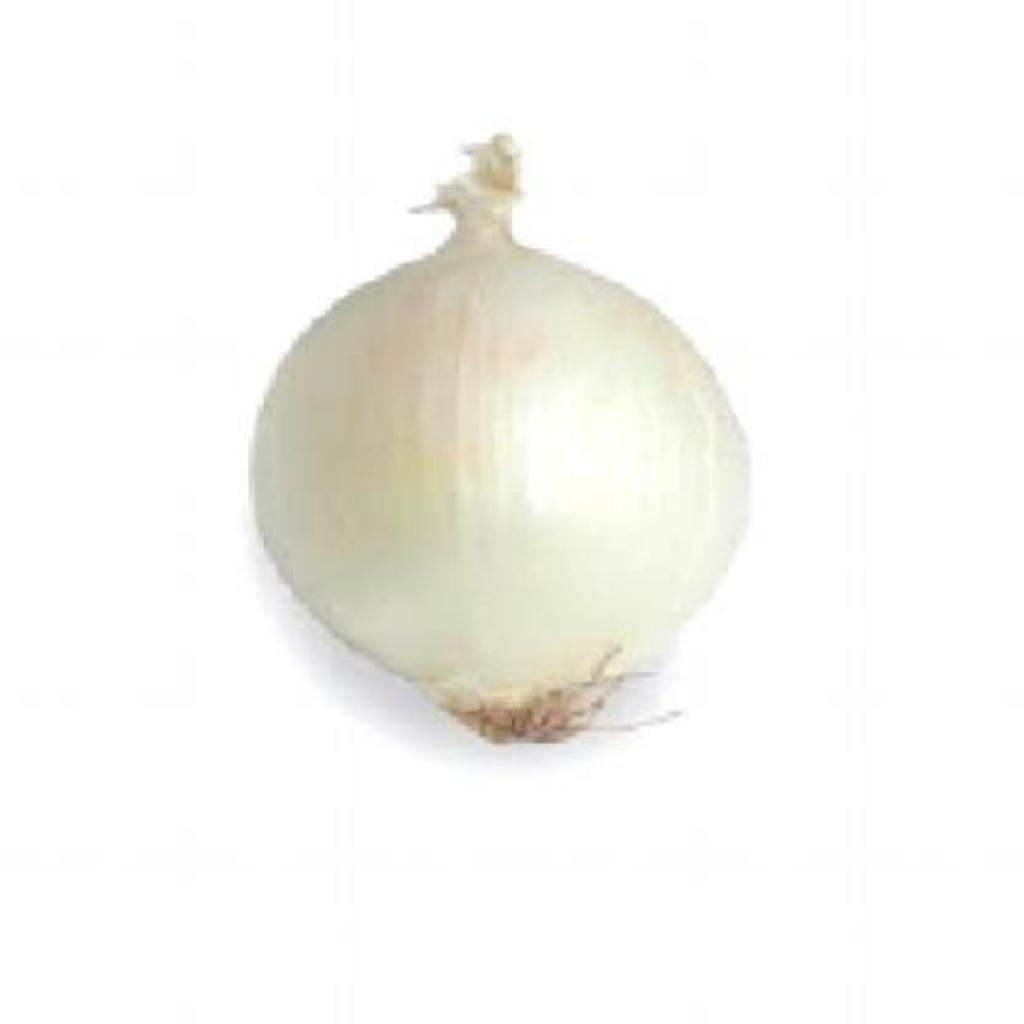Onion: (251, 135, 751, 742)
